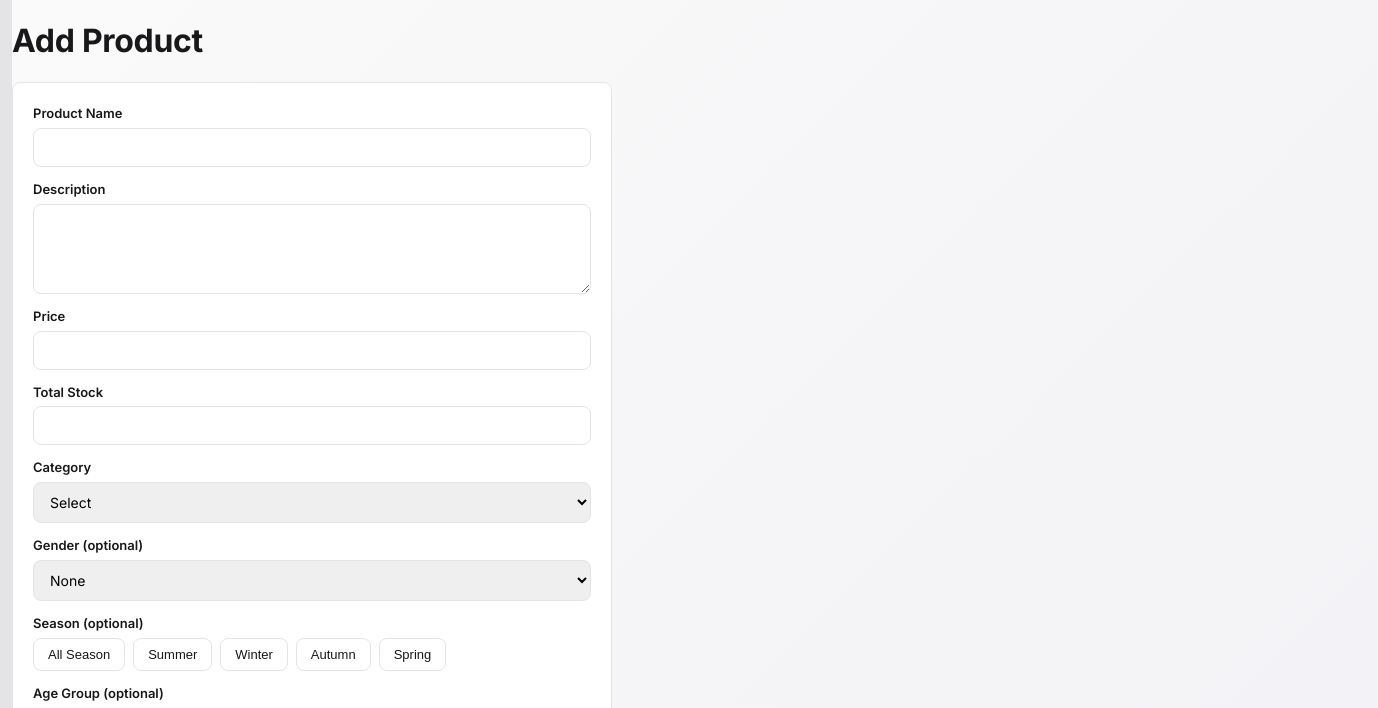
AdminProductForm › Create Mode - Validation › should show error when stock is invalid
In the field: coordinates (312, 148) [33,128,591,167], type "Test Product"
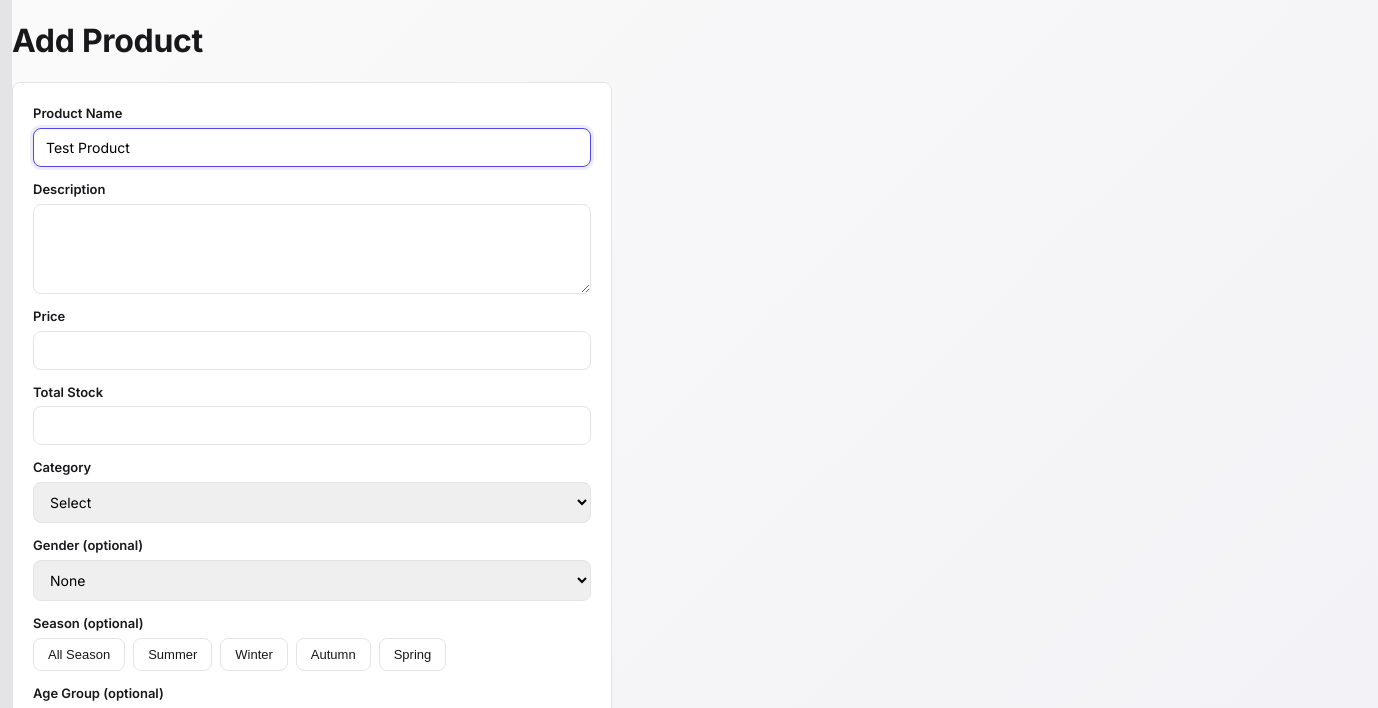
In the number field below "Price": coordinates (312, 350) [33,331,591,370], type "100"
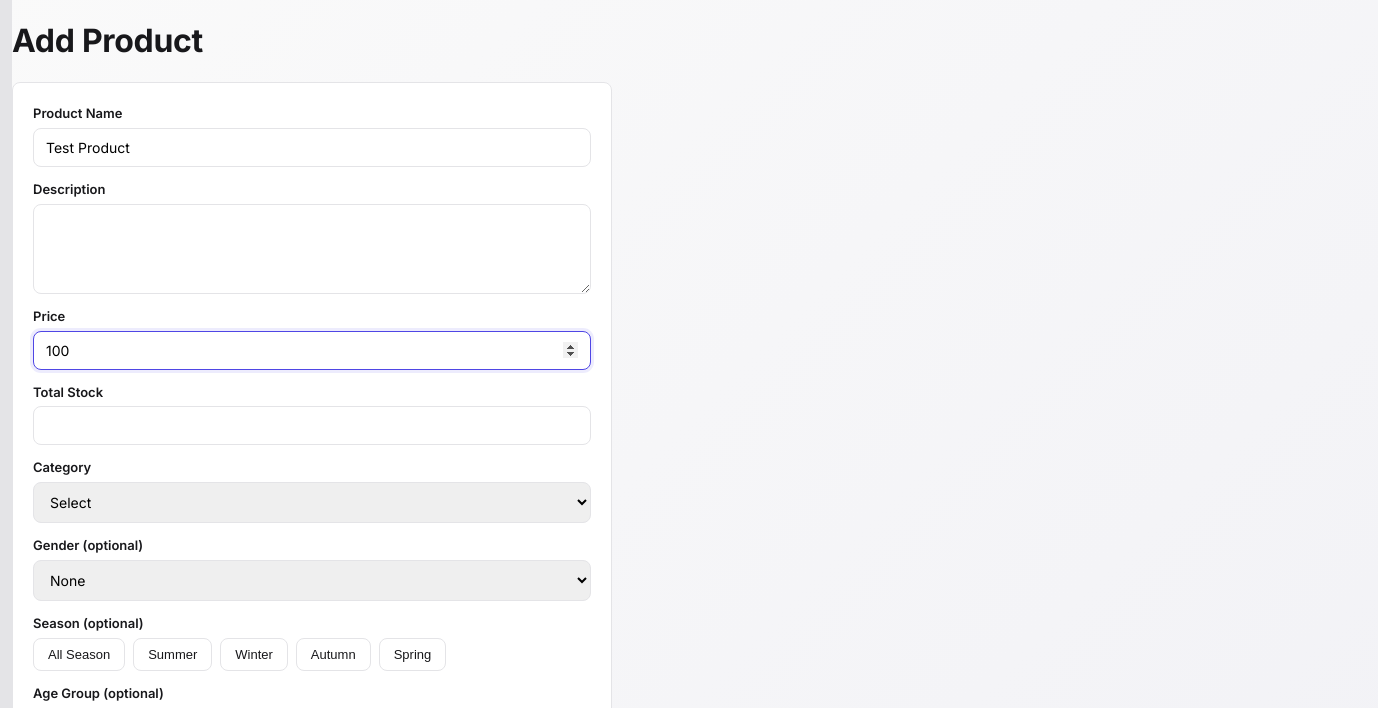
In the number field below "Total Stock": coordinates (312, 426) [33,406,591,445], type "-1"
(page scrolled)
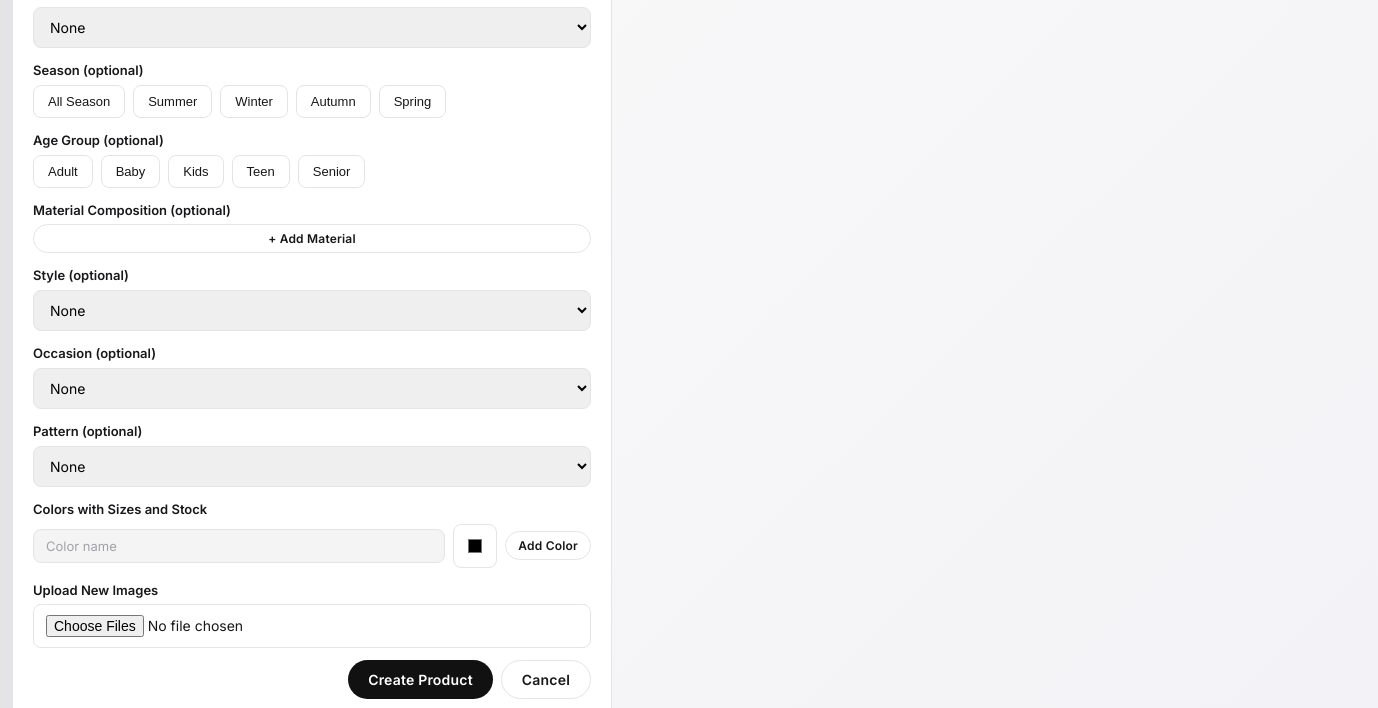
Click the button "Create Product": coordinates (420, 680) [348,660,493,699]
(page scrolled)
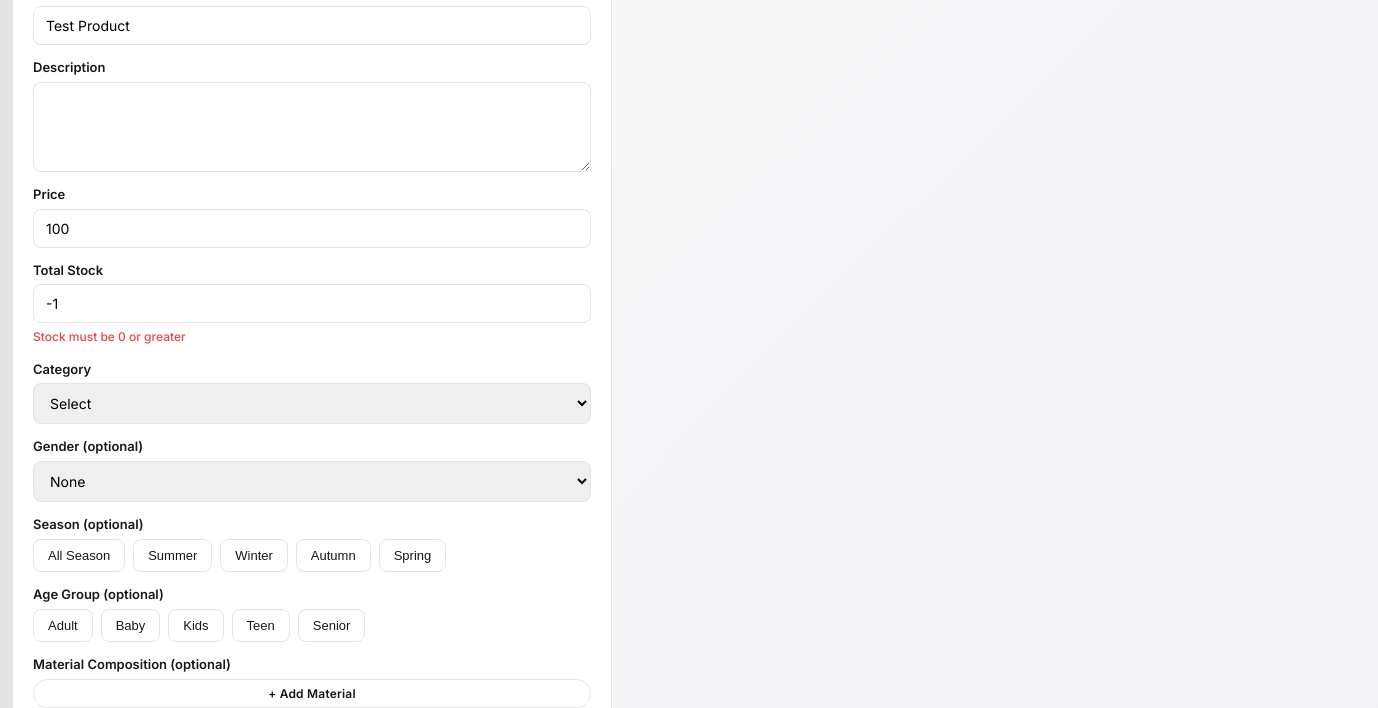
Result: the text "Stock must be 0 or greater" is shown at [33,329,186,344]
